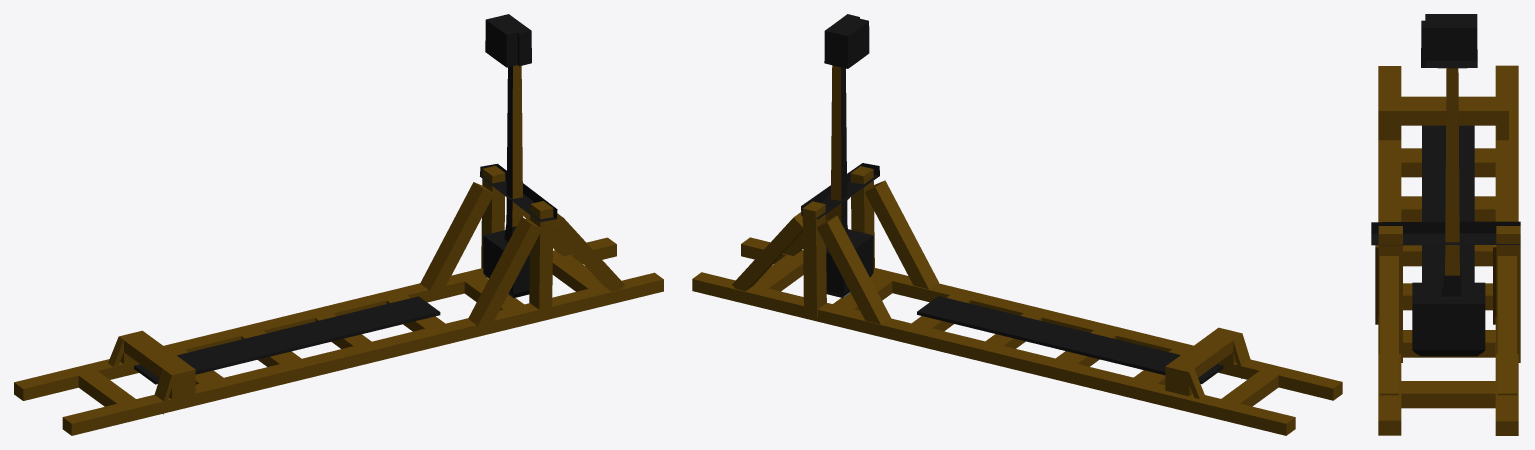
The model's file is fire.fbx.
The picture shows the model from 3 angles, left to right: view 1: azimuth 30°, elevation 25°; view 2: azimuth 150°, elevation 25°; view 3: azimuth 270°, elevation 25°; orthographic projection. The views are drawn at different scales.
Visible parts, largest first — view 1: Cube.002; view 2: Cube.002; view 3: Cube.002.
Part boxes in pixels (x1,y1,x2,y2): Cube.002: (14,14,663,435); Cube.002: (692,14,1342,435); Cube.002: (1371,14,1520,435).
Bounding box in the file's own units: 803 × 358 × 143.
